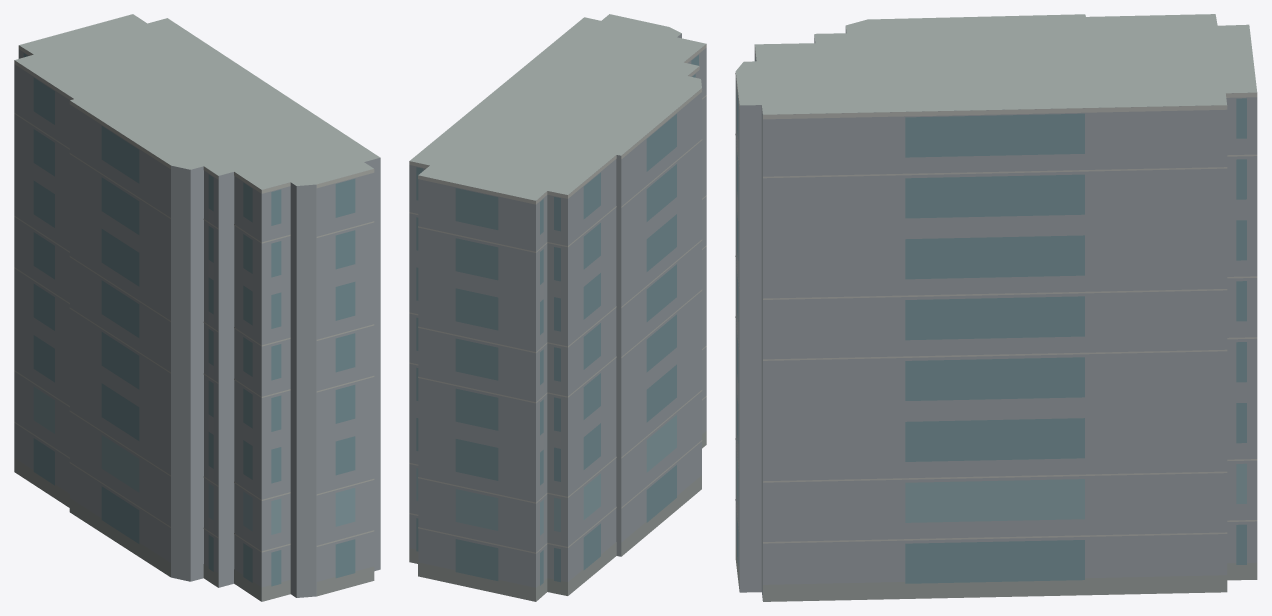
Rendered from survey-upis-32926008.glb.
3 renders of one model, left to right at view 1: azimuth 30°, elevation 25°; view 2: azimuth 150°, elevation 25°; view 3: azimuth 270°, elevation 25°, orthographic. The views are drawn at different scales.
Parts seen in each view (by area): view 1: survey-upis-32926008.tmp; view 2: survey-upis-32926008.tmp; view 3: survey-upis-32926008.tmp.
Part boxes in pixels (left/top/right/bottom): survey-upis-32926008.tmp: left=14, top=14, right=380, bottom=601; survey-upis-32926008.tmp: left=409, top=14, right=706, bottom=601; survey-upis-32926008.tmp: left=735, top=14, right=1257, bottom=601.
Bounding box in the file's own units: 11.36 × 25.55 × 24.82.
